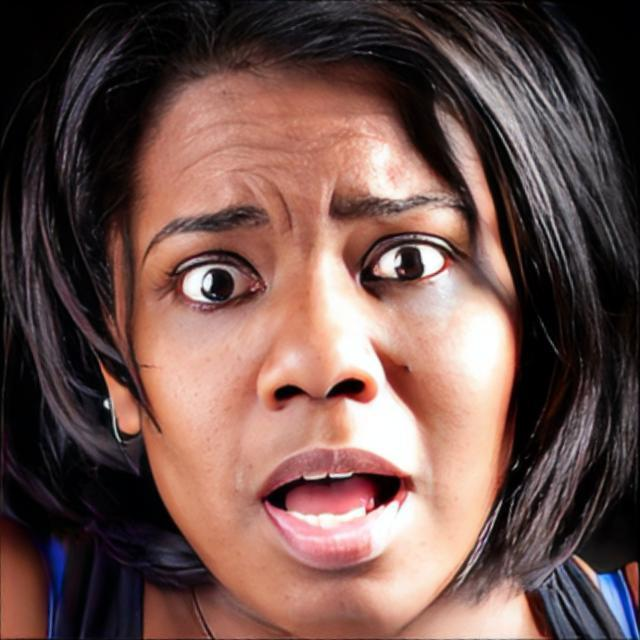Fear: (110, 44, 526, 640)
